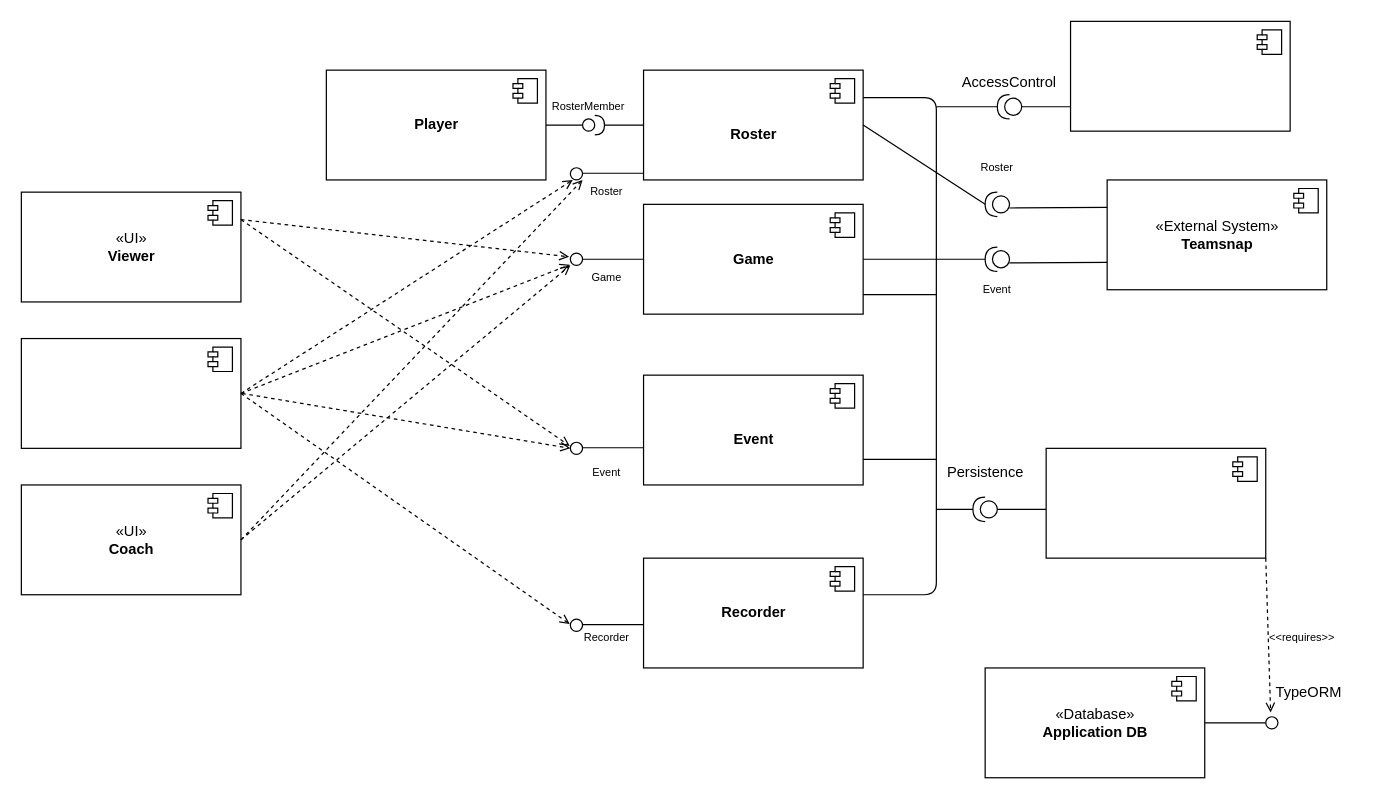
This 1373x799 diagram has some shape labels left out. The centre of each missing label's shape, as x and y in pixels:
"«Infrastructure» Persistence" goes at pixel 1155 502.
"«Infrastructure» Security" goes at pixel 1179 75.
"«UI» Parent" goes at pixel 130 392.
